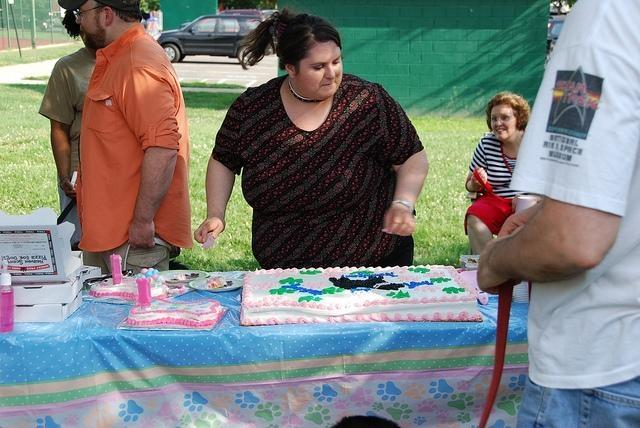car: (158, 16, 264, 64), (177, 9, 262, 28)
